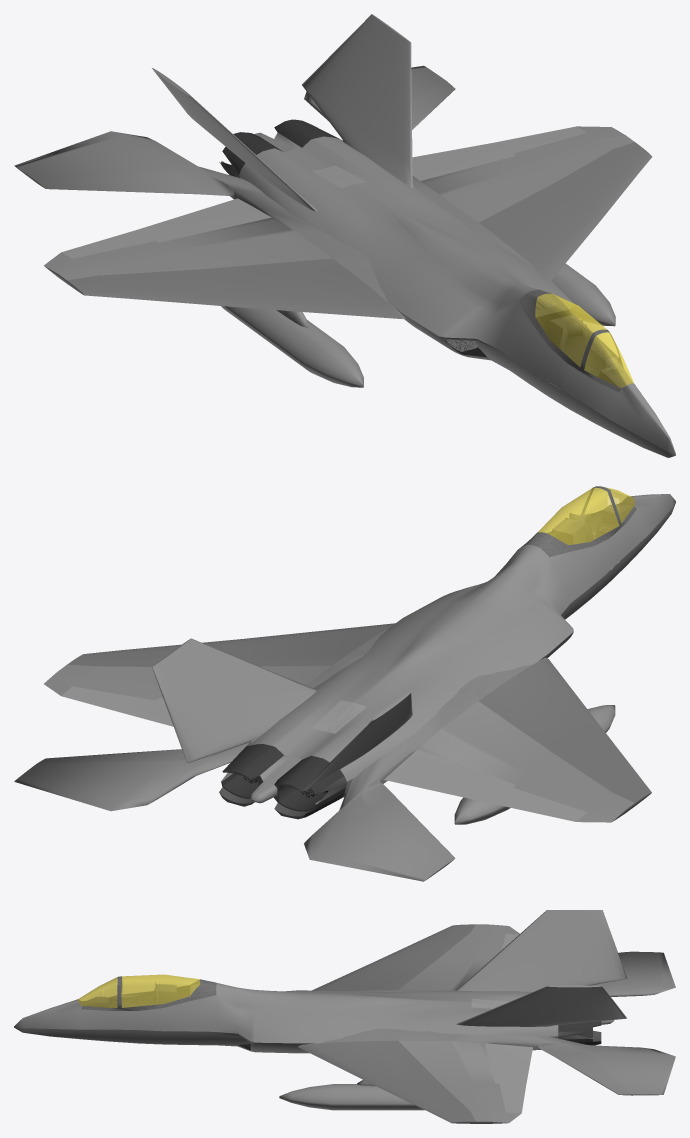
3 views of the same model, one above another, from view 1: azimuth 30°, elevation 25°; view 2: azimuth 150°, elevation 25°; view 3: azimuth 270°, elevation 25° (orthographic). The views are drawn at different scales.
Parts seen in each view (by area): view 1: SketchUp (×19); view 2: SketchUp (×21); view 3: SketchUp (×16).
Boxes of the visible parts, bbox=[...] form: SketchUp (×19): bbox=[14, 14, 675, 457]; SketchUp (×21): bbox=[14, 486, 675, 881]; SketchUp (×16): bbox=[14, 910, 675, 1123].
Size of the model in its own units: 424 by 602 by 118.
